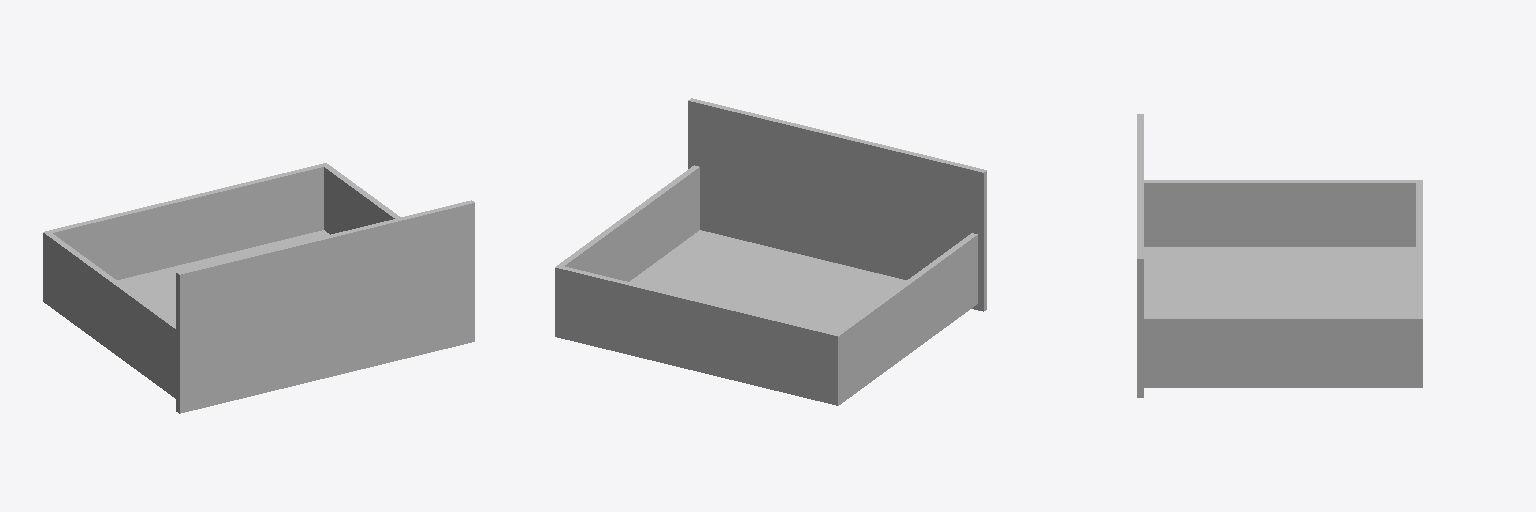
File: KitchenOPEN_Export-28.obj
The picture shows the model from 3 angles: view 1: azimuth 30°, elevation 25°; view 2: azimuth 150°, elevation 25°; view 3: azimuth 270°, elevation 25°; orthographic projection.
Visible parts, largest first — view 1: KitchenOPEN_Export-28; view 2: KitchenOPEN_Export-28; view 3: KitchenOPEN_Export-28.
Boxes of the visible parts, x1=… form: KitchenOPEN_Export-28: x1=43, y1=163, x2=474, y2=413; KitchenOPEN_Export-28: x1=555, y1=98, x2=986, y2=405; KitchenOPEN_Export-28: x1=1137, y1=114, x2=1422, y2=397.
Size of the model in its own units: 49 by 22 by 41.